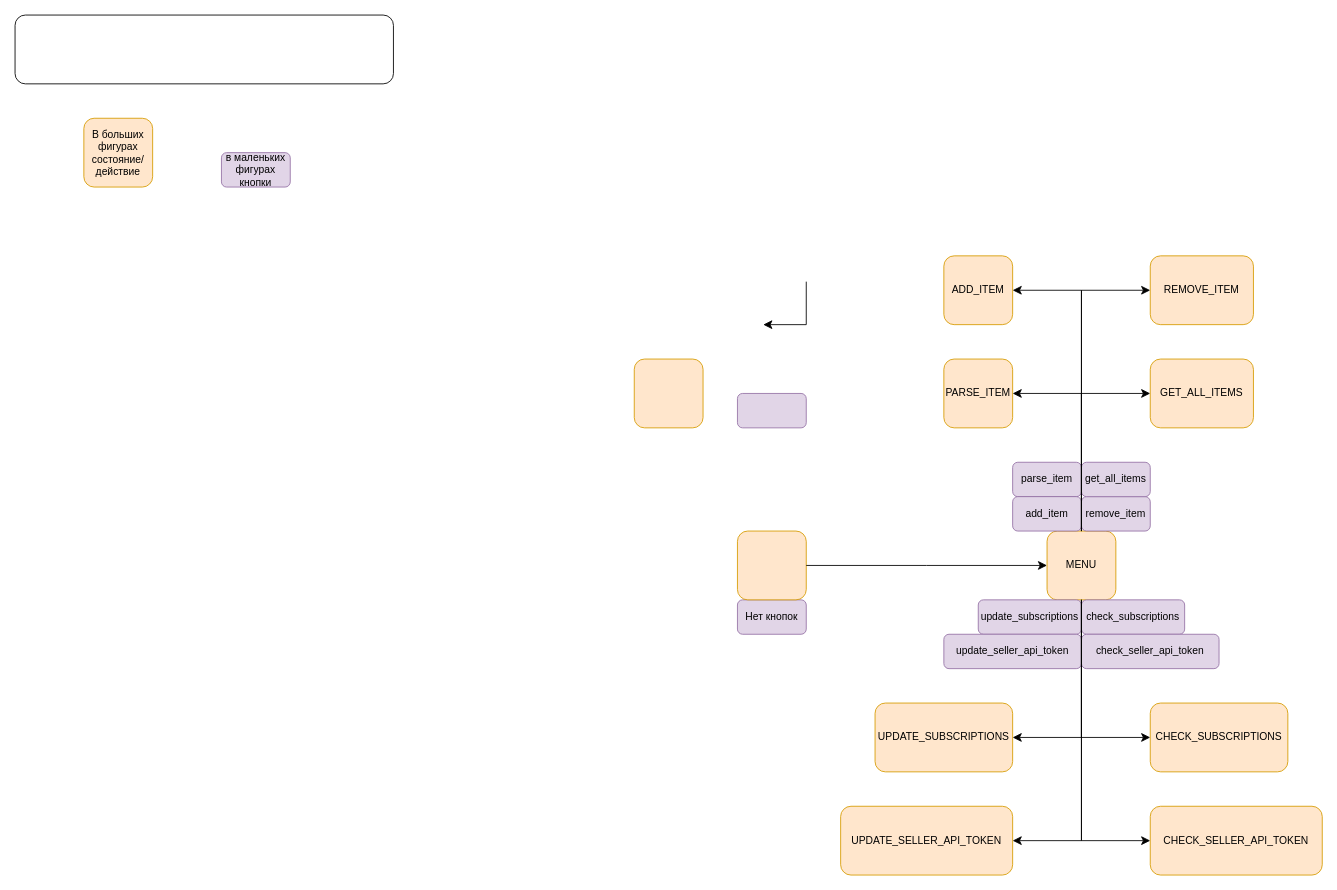
Image size: 1337x890. Some labels were removed from this diagram. Here are the shapes that lost their labels. From the top down, the box of each, then its label:
(14, 14, 393, 84): Диограмма состояний пользователя бота
(737, 530, 806, 600): None
